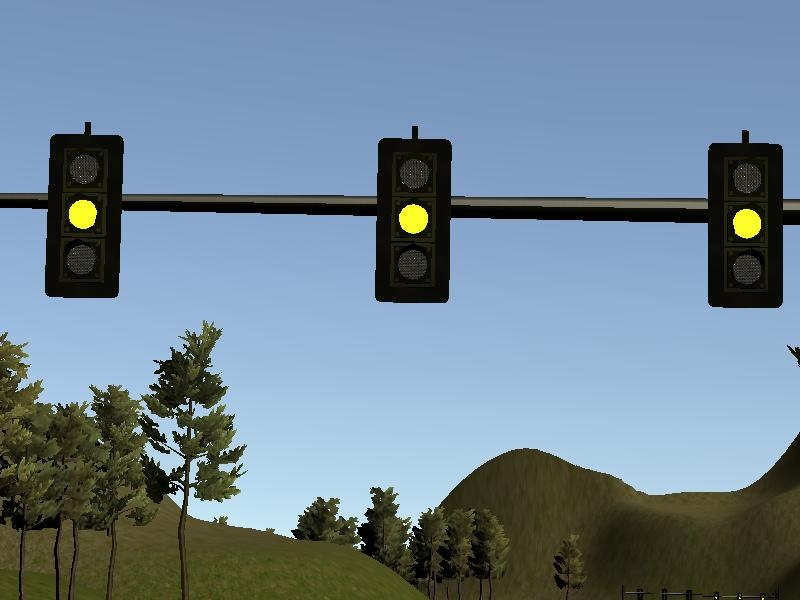Yellow: (46, 134, 125, 298), (706, 144, 785, 308), (377, 139, 456, 303)
